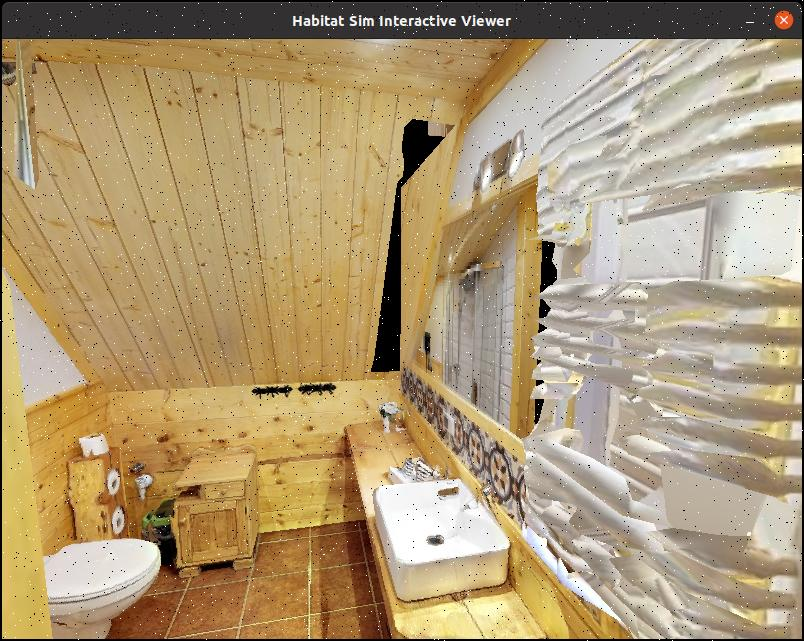sink: (363, 464, 526, 606)
toilet: (0, 522, 188, 641)
